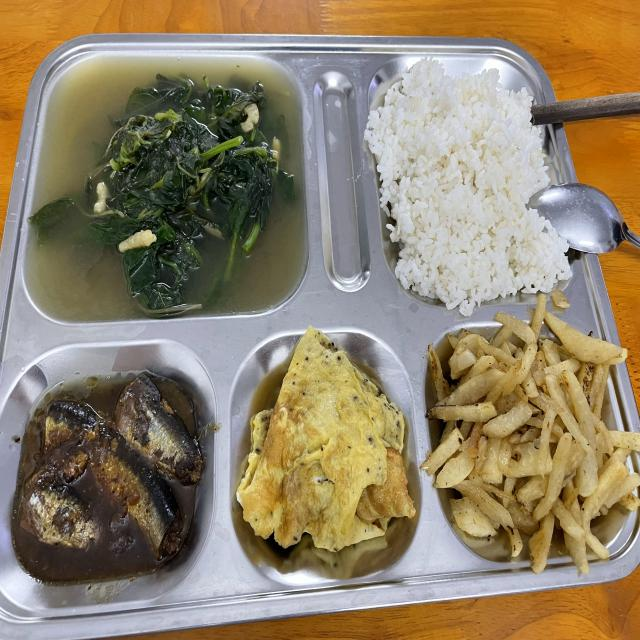ca_kho: (24, 398, 188, 558)
canh_cai: (66, 73, 290, 299)
com_trang: (381, 76, 572, 292)
trung_chien: (252, 352, 411, 568)
